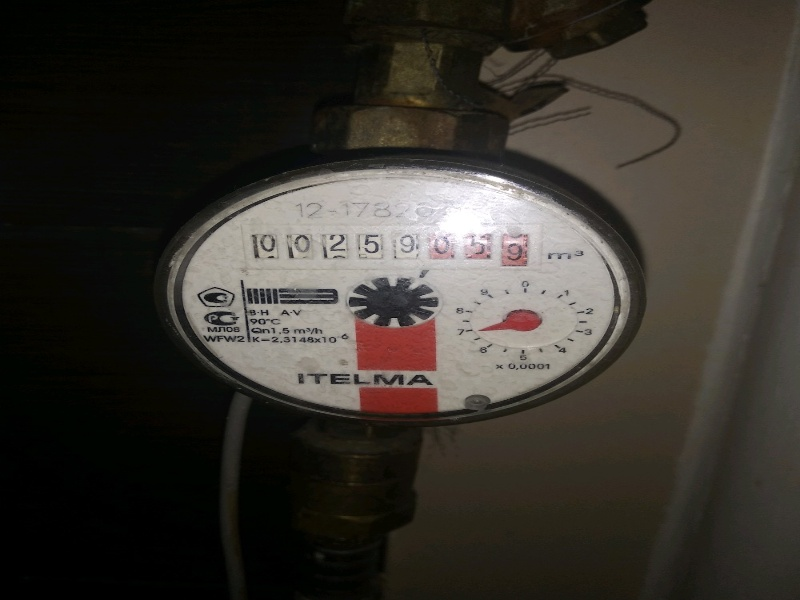meter: (241, 214, 520, 271)
